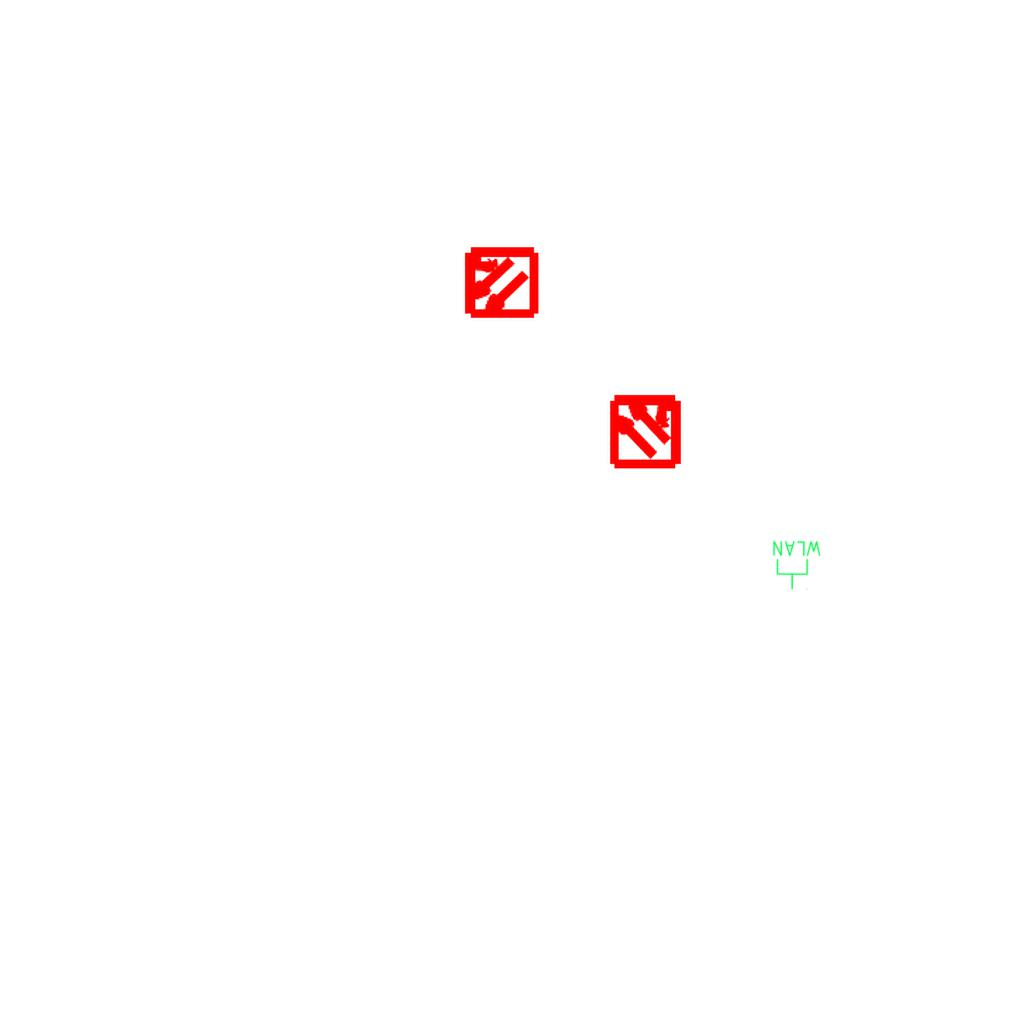OT_Multisensormelder_(Kombination_RMO_WMD): (589, 373, 702, 486), (443, 226, 556, 339)
WLAN: (771, 539, 823, 591)
